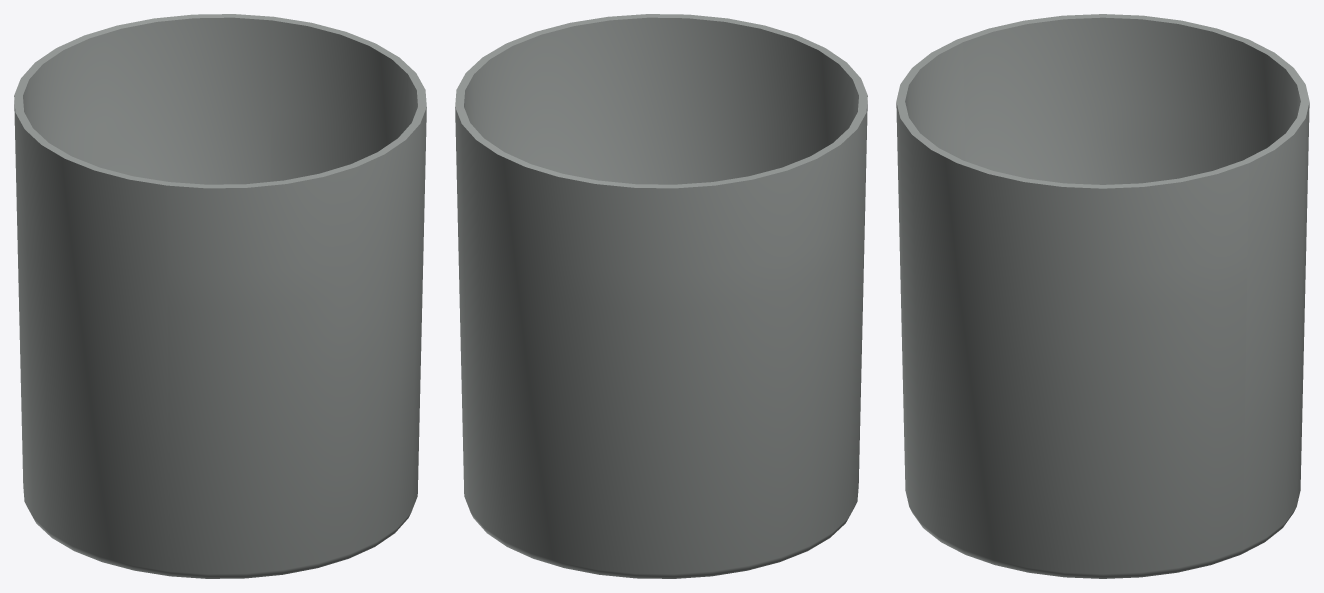
File: tumbler.glb
The picture shows the model from 3 angles, left to right: view 1: azimuth 30°, elevation 25°; view 2: azimuth 150°, elevation 25°; view 3: azimuth 270°, elevation 25°; orthographic projection.
Parts seen in each view (by area): view 1: tumbler; view 2: tumbler; view 3: tumbler.
Boxes of the visible parts, bbox=[...] form: tumbler: bbox=[14, 14, 426, 578]; tumbler: bbox=[455, 14, 867, 578]; tumbler: bbox=[896, 14, 1309, 578].
Bounding box in the file's own units: 0.08 × 0.085 × 0.08.
1 material, 1 textured.
